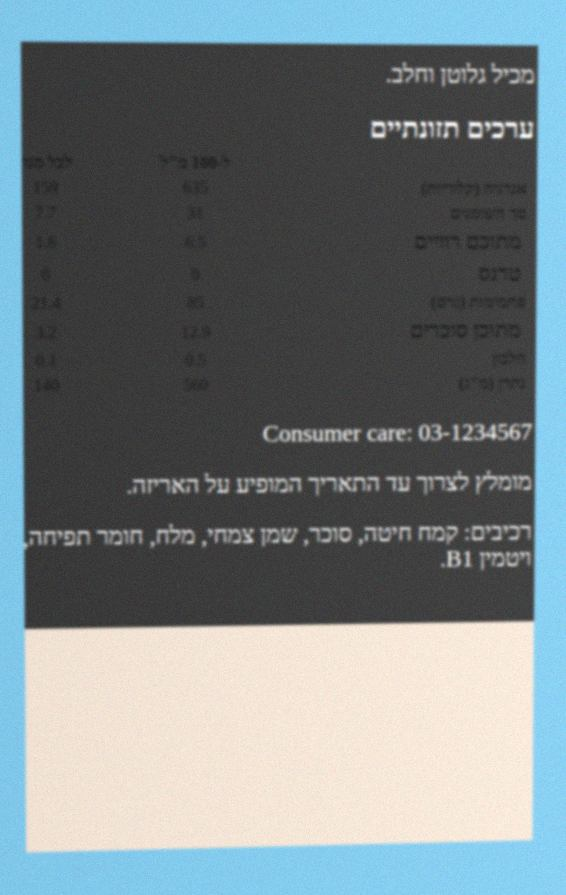carbs: (185, 292, 206, 314)
energy: (181, 177, 210, 199)
fat: (185, 202, 206, 224)
protein: (183, 349, 208, 371)
